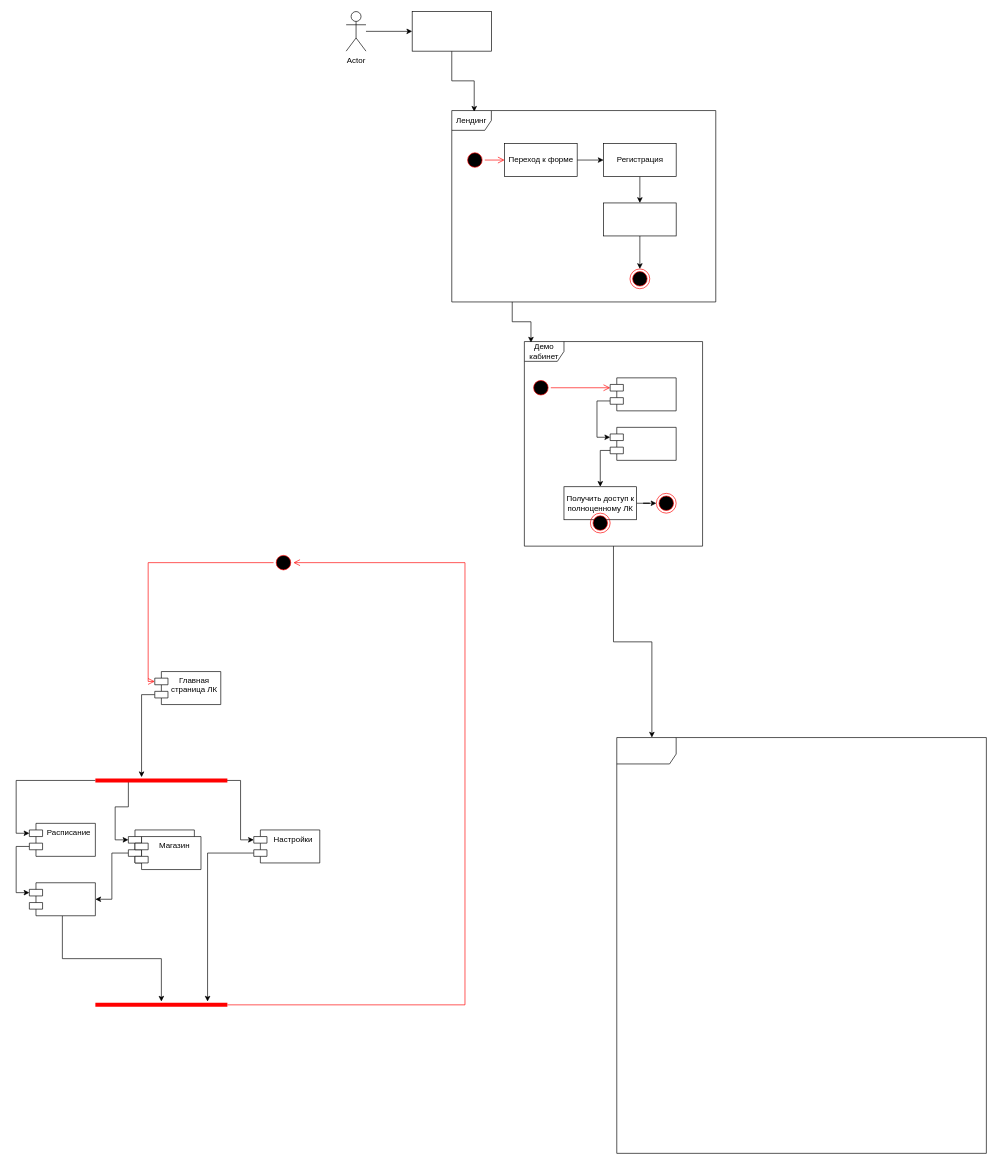
This 998x1165 diagram has some shape labels left out. The centre of each missing label's shape, as x and y in pixels:
"Бронирование или покупка" belongs at pixel 643 443.
"демо модуль" belongs at pixel 643 394.
"Занятие" belongs at pixel 62 899.
"Переход в демокабинет" belongs at pixel 639 219.
"Переход на лендинг" belongs at pixel 451 31.
"Полноценый ЛК" belongs at pixel 801 945.
